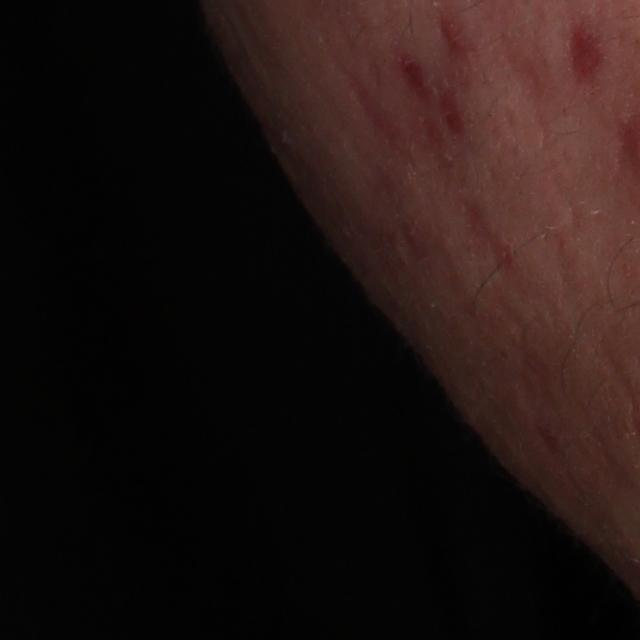atrophic_scar: (458, 194, 514, 269), (571, 17, 606, 88), (392, 44, 433, 100), (440, 71, 469, 148)
